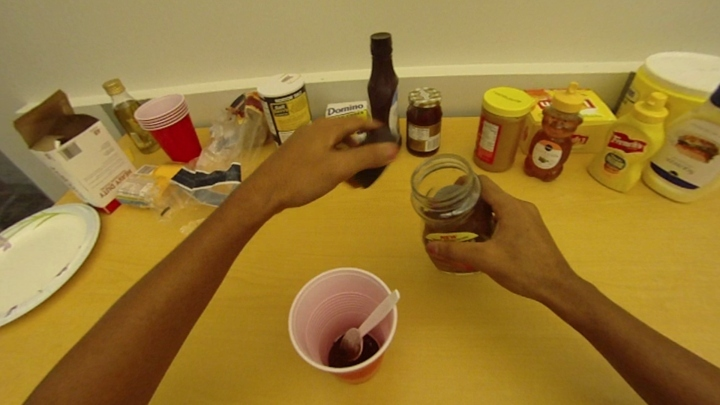hand: (415, 165, 571, 303), (260, 109, 402, 225)
